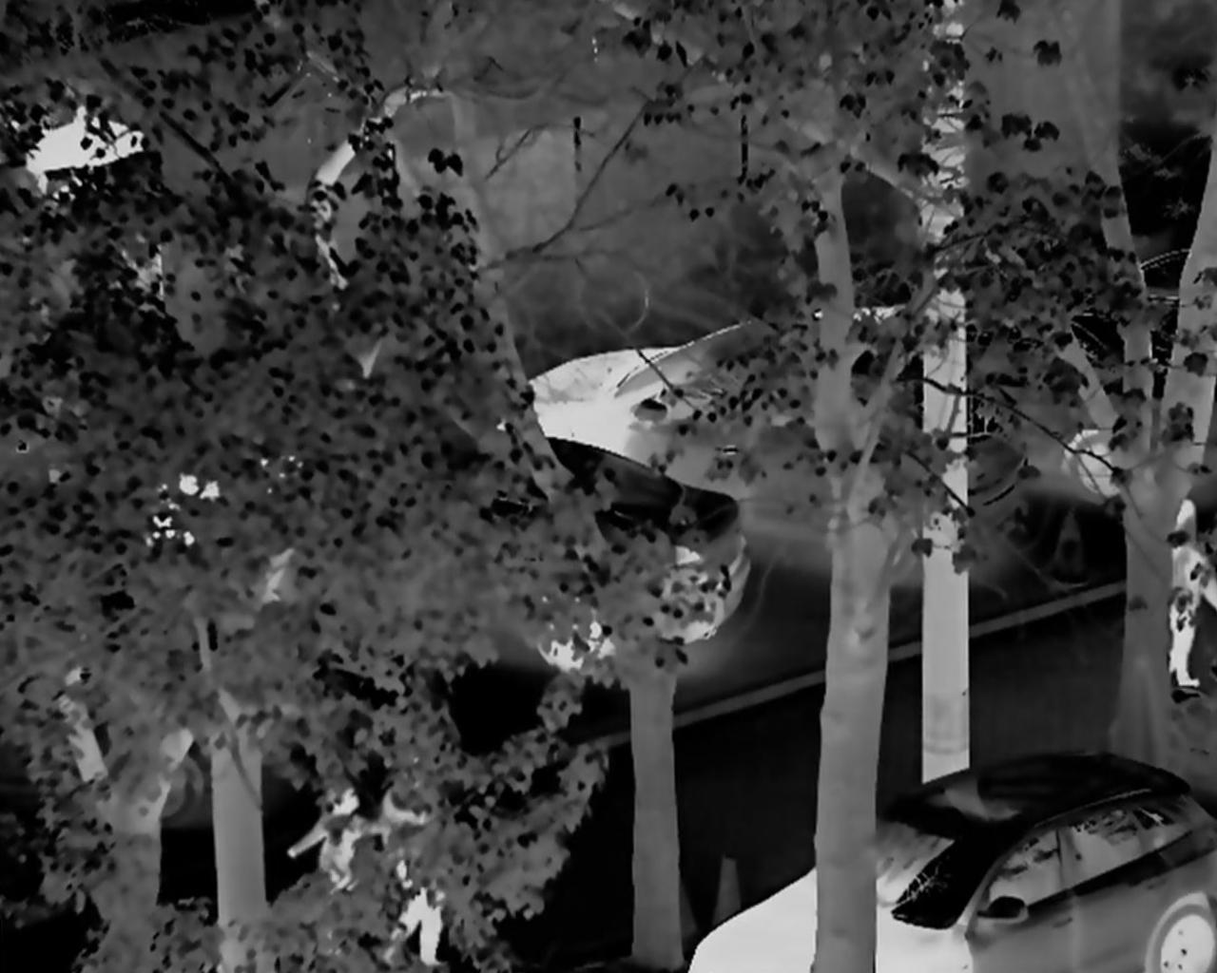person: (374, 782, 464, 972), (290, 784, 395, 931), (1148, 492, 1215, 691)
